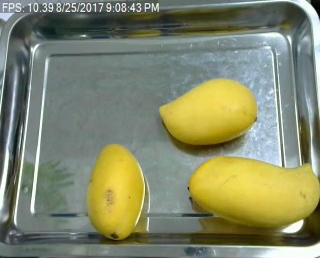Mango: (188, 152, 320, 227), (157, 78, 263, 150), (84, 144, 150, 239)
